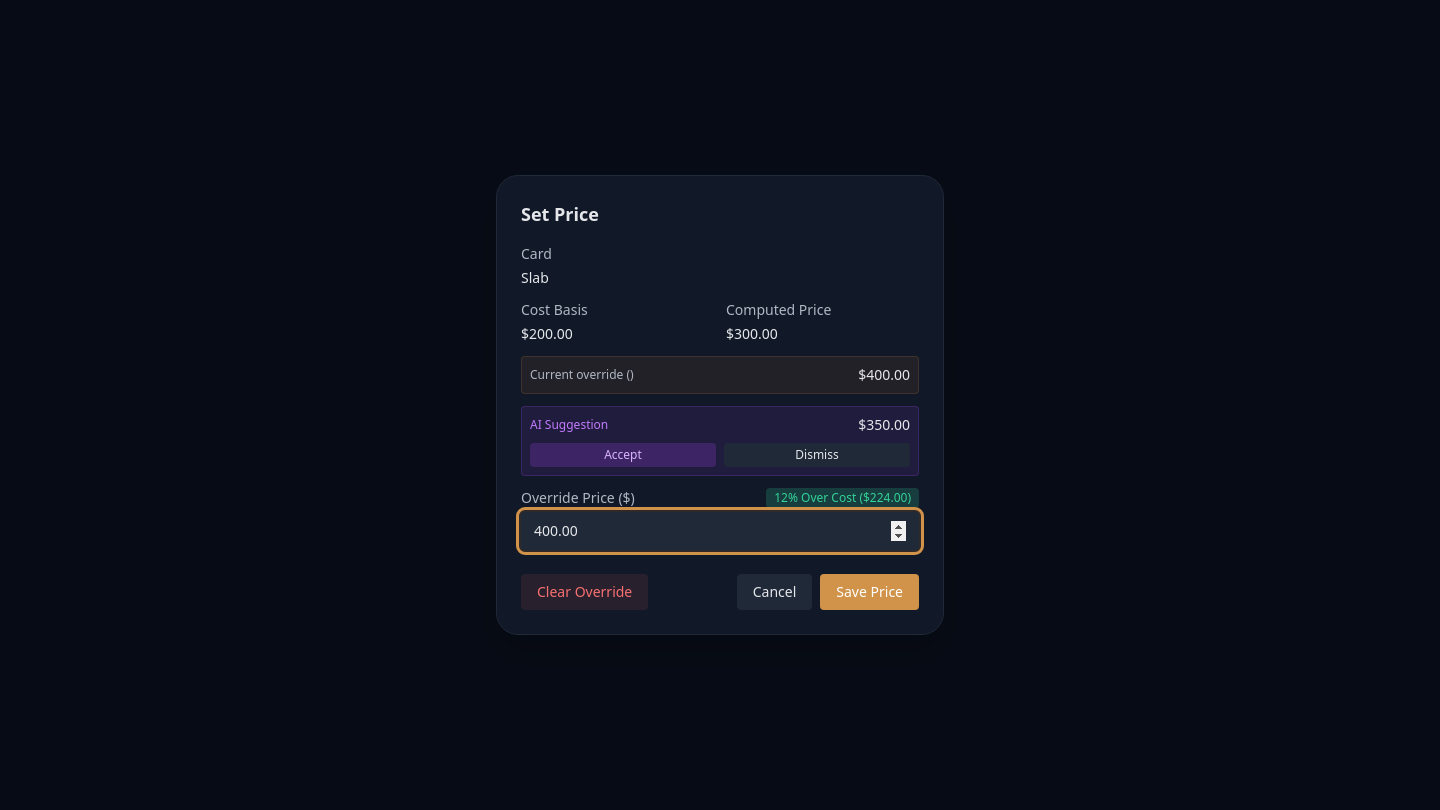
Scenario: settles override/Accept after unmount and full 200 response body
Step 1. Click the button "Accept" → click(623, 455), box [530,443,716,467]
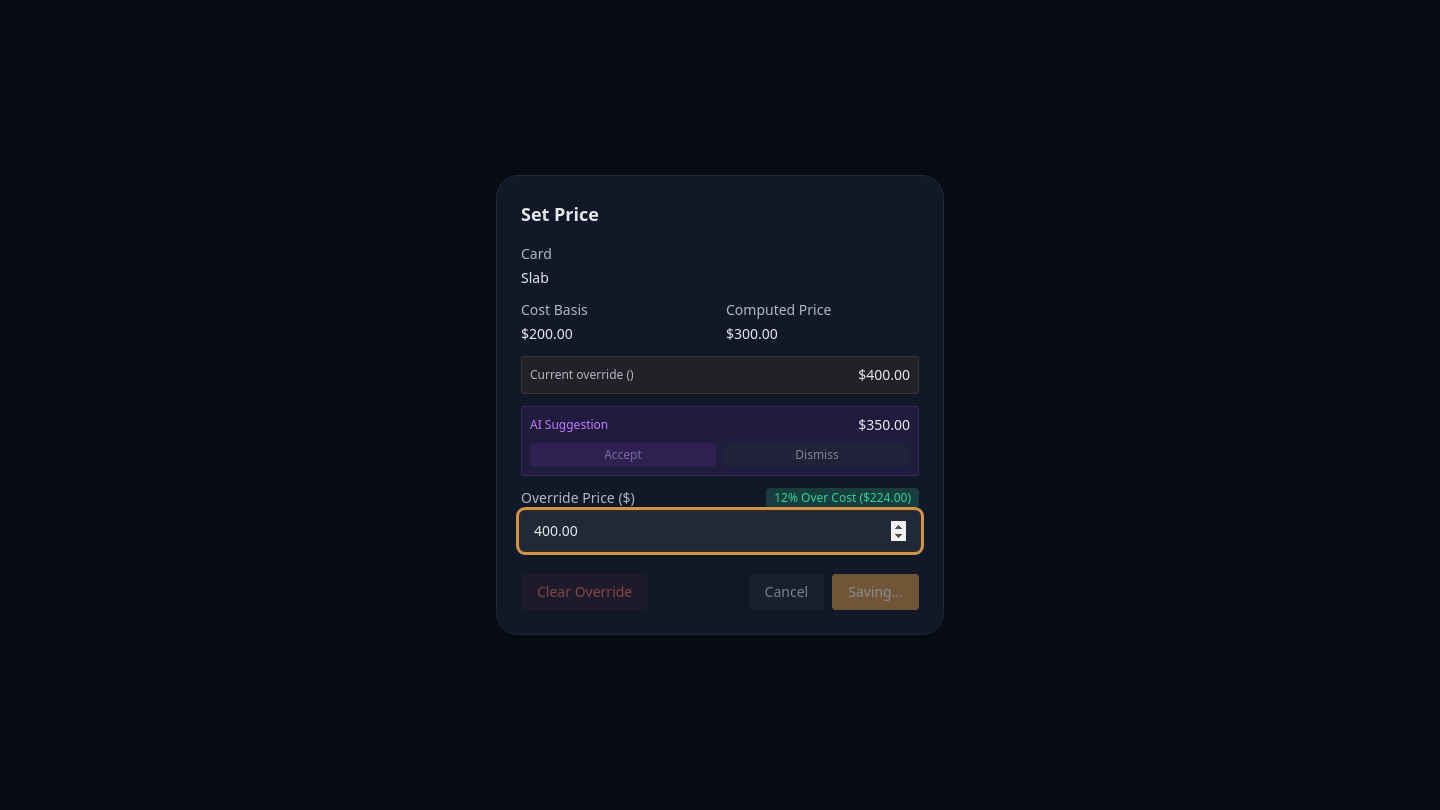
Now the button "Accept" is disabled, box [530,443,716,467]
